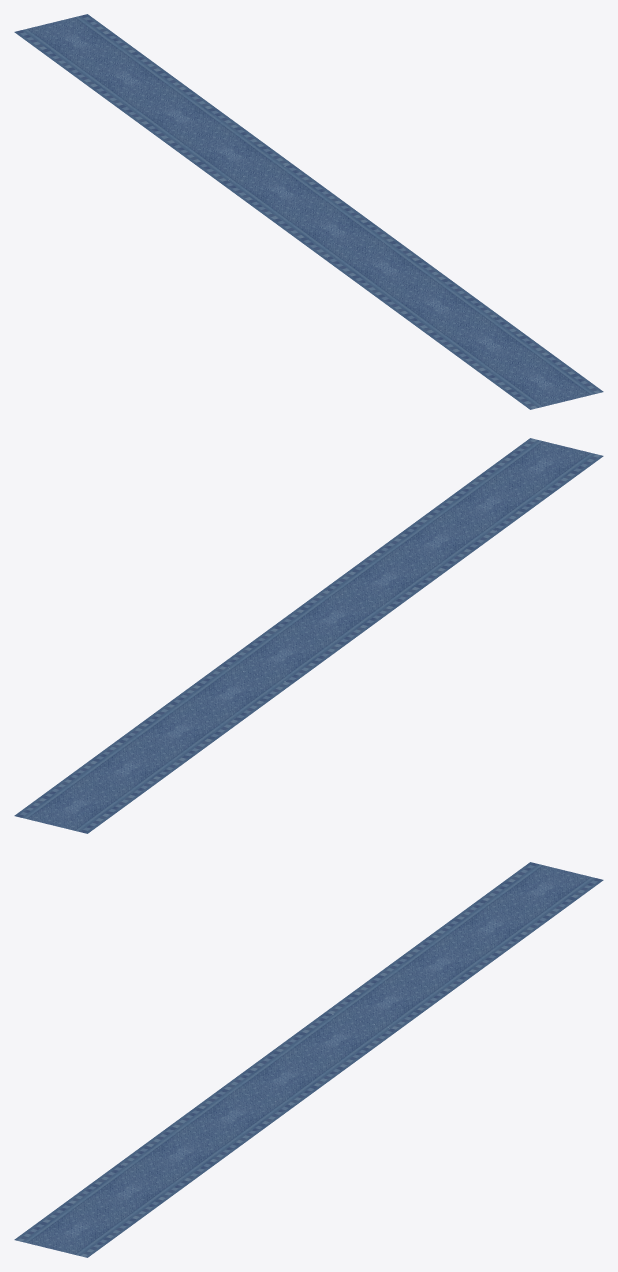
The model's file is Area_07_8.fbx.
3 views of the same model, one above another, from view 1: azimuth 30°, elevation 25°; view 2: azimuth 150°, elevation 25°; view 3: azimuth 330°, elevation 25° (orthographic).
Visible parts, largest first — view 1: Area_07_8; view 2: Area_07_8; view 3: Area_07_8.
Part boxes in pixels (x1,y1,x2,y2): Area_07_8: (14,14,603,409); Area_07_8: (14,438,603,833); Area_07_8: (14,862,603,1257).
Bounding box in the file's own units: 602 × 0.00127 × 7313.
1 material, 1 textured.
